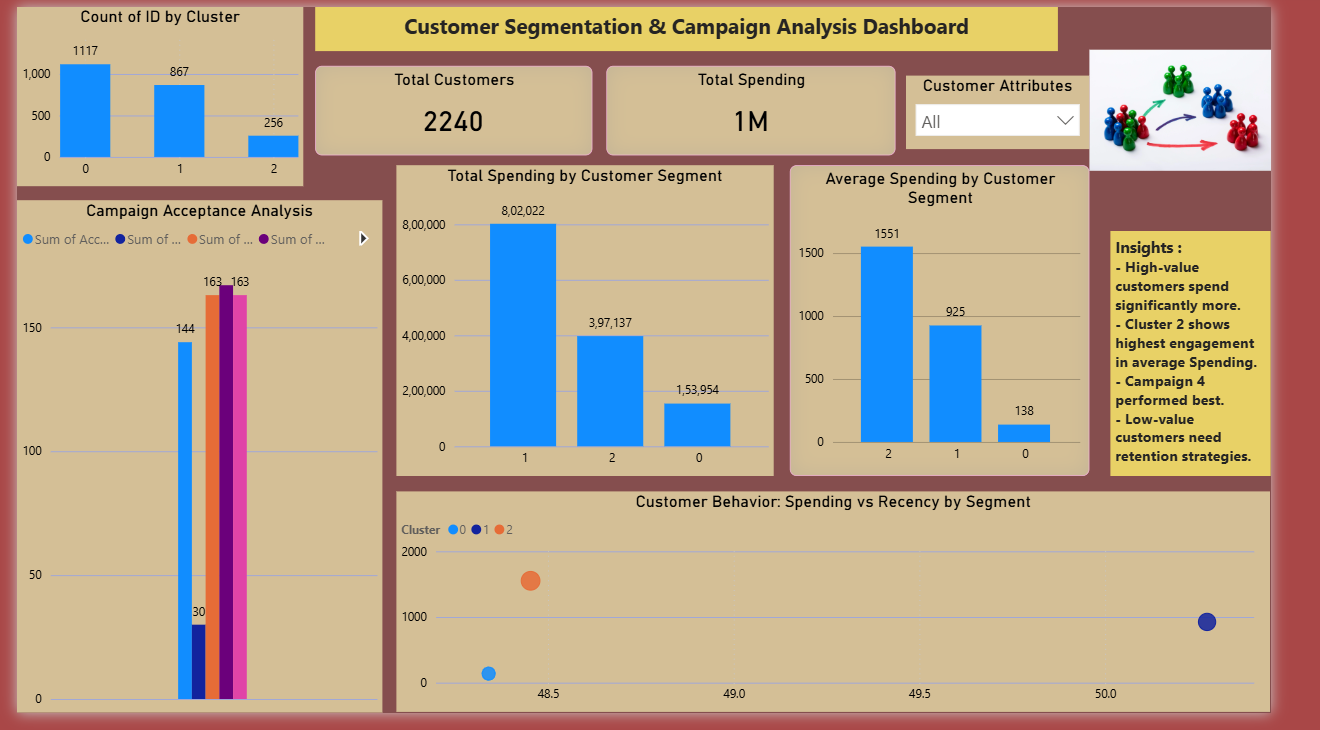

This screenshot's page, from the dashboard's own definition file:
{"tool":"powerbi","page":{"name":"Page 1","canvas":[1280,720],"ordinal":0},"visuals":[{"type":"card","title":"Total Customers","fields":{"Values":["CountNonNull(customer_segmentation.ID)"]},"box":[304.5,60.1,282.7,91.5],"z":0},{"type":"card","title":"Total Spending","fields":{"Values":["customer_segmentation.Total Spending"]},"box":[600.9,60.1,295,91.5],"z":1000},{"type":"clusteredColumnChart","title":"Total Spending by Customer Segment","fields":{"Category":["customer_segmentation.Cluster"],"Y":["customer_segmentation.Total Spending"]},"box":[387.8,161.1,385.1,316.8],"z":2000},{"type":"clusteredColumnChart","title":"Average Spending by Customer Segment","fields":{"Category":["customer_segmentation.Cluster"],"Y":["Avg(customer_segmentation.Total_Spending)"]},"box":[788,161.1,305.9,316.8],"z":3000},{"type":"clusteredColumnChart","fields":{"Category":["customer_segmentation.Cluster"],"Y":["CountNonNull(customer_segmentation.ID)"]},"box":[0,0,292.2,183],"z":4000},{"type":"scatterChart","title":"Customer Behavior: Spending vs Recency by Segment","fields":{"X":["Avg(customer_segmentation.Recency)"],"Series":["customer_segmentation.Cluster"],"Y":["Avg(customer_segmentation.Total_Spending)"],"Size":["Avg(customer_segmentation.Income)"]},"box":[387.8,494.4,891.8,225.3],"z":5000},{"type":"slicer","title":"Customer Attributes","fields":{"Values":["customer_segmentation.Cluster","customer_segmentation.Education"]},"box":[906.8,69.6,187.1,75.1],"z":6000},{"type":"clusteredColumnChart","title":"Campaign Acceptance Analysis","fields":{"Y":["Sum(customer_segmentation.AcceptedCmp1)","Sum(customer_segmentation.AcceptedCmp2)","Sum(customer_segmentation.AcceptedCmp3)","Sum(customer_segmentation.AcceptedCmp4)","Sum(customer_segmentation.AcceptedCmp5)"]},"box":[0,196.7,372.8,523],"z":7000},{"type":"textbox","box":[304.5,0,757.9,45.1],"z":8000},{"type":"textbox","box":[1115.7,228.1,163.9,249.9],"z":9000},{"type":"image","box":[1093.9,0,185.7,210.3],"z":10000}]}

Visuals, with their boxes in screenshot pixels (x1, y1, x2, y2), scaled from the page's 1280x720 canvas onto the 1320x730 screenshot:
"Total Customers" card: box=[314, 61, 606, 154]
"Total Spending" card: box=[620, 61, 924, 154]
"Total Spending by Customer Segment" clusteredColumnChart: box=[400, 163, 797, 485]
"Average Spending by Customer Segment" clusteredColumnChart: box=[813, 163, 1128, 485]
clusteredColumnChart - customer_segmentation.Cluster x CountNonNull(customer_segmentation.ID): box=[0, 0, 301, 186]
"Customer Behavior: Spending vs Recency by Segment" scatterChart: box=[400, 501, 1319, 729]
"Customer Attributes" slicer: box=[935, 71, 1128, 147]
"Campaign Acceptance Analysis" clusteredColumnChart: box=[0, 199, 384, 729]
textbox: box=[314, 0, 1096, 46]
textbox: box=[1151, 231, 1319, 485]
image: box=[1128, 0, 1319, 213]
